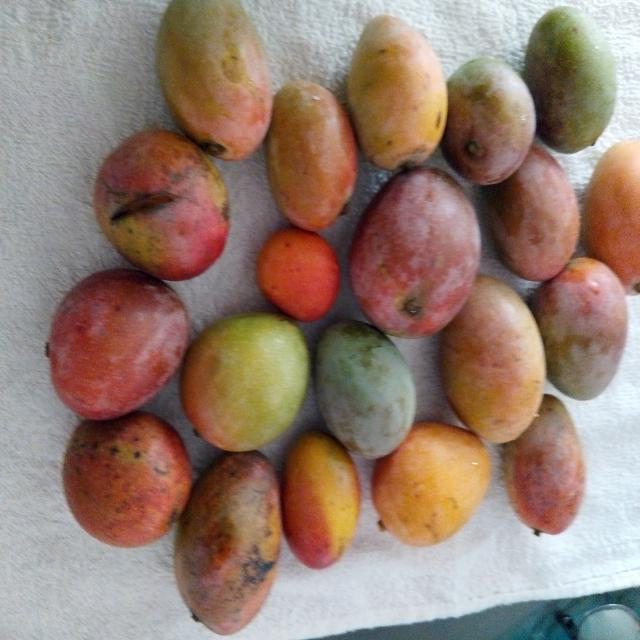mango: (350, 167, 480, 337), (47, 269, 189, 419), (94, 130, 229, 280), (174, 451, 281, 634), (157, 0, 272, 160), (180, 312, 309, 451), (63, 411, 191, 547), (441, 276, 545, 442), (347, 15, 447, 170), (372, 423, 490, 546), (315, 321, 415, 458), (266, 81, 357, 231), (532, 258, 627, 400), (524, 7, 616, 153), (486, 145, 580, 280), (441, 58, 535, 184), (503, 395, 585, 534), (282, 431, 360, 568), (584, 140, 639, 294), (256, 227, 340, 321)
